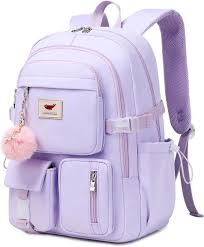bag: (14, 1, 199, 239)
